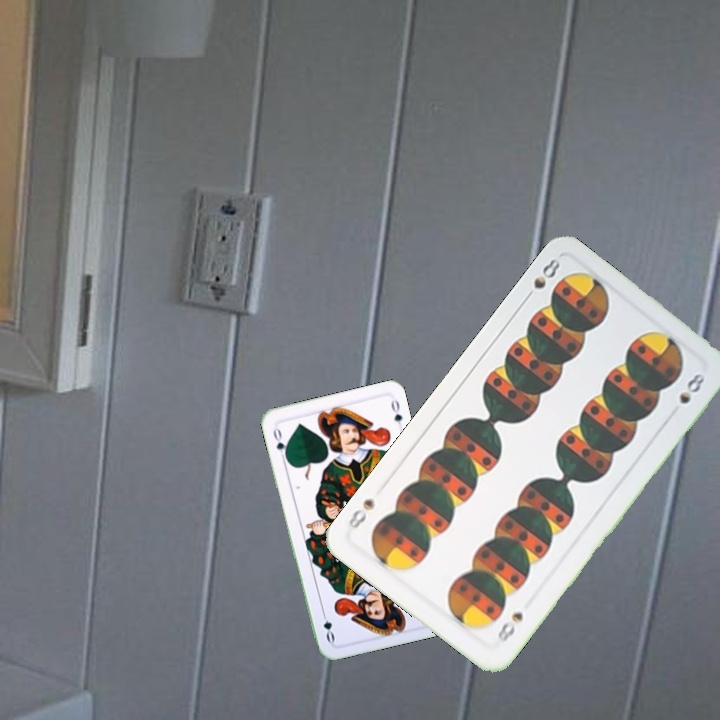GO: (269, 422, 290, 462)
S8: (519, 254, 563, 304), (493, 607, 526, 645)
